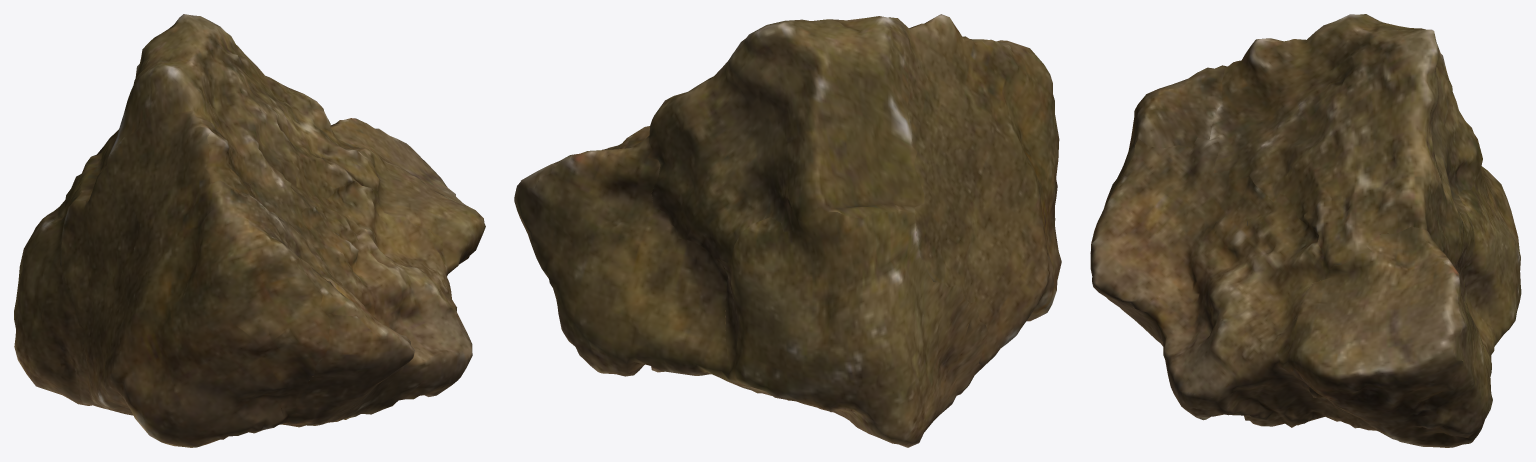
File: moss_rock_4.glb
3 views of the same model, side by side, from view 1: azimuth 30°, elevation 25°; view 2: azimuth 150°, elevation 25°; view 3: azimuth 270°, elevation 25° (orthographic). The views are drawn at different scales.
Parts seen in each view (by area): view 1: moss_rock_4; view 2: moss_rock_4; view 3: moss_rock_4.
Boxes of the visible parts, x1,y1,x2,y2 form: moss_rock_4: (14,14,485,447); moss_rock_4: (514,14,1061,447); moss_rock_4: (1090,14,1521,447).
Size of the model in its own units: 1 by 0.8313 by 0.9232.
Materials: 1 (1 with a texture image).
